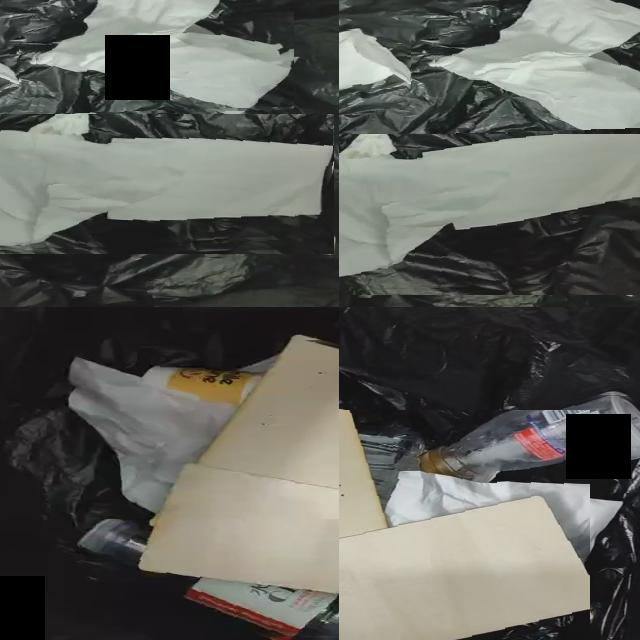bottle: (80, 519, 339, 638), (417, 395, 640, 493)
carton: (339, 410, 590, 640), (138, 339, 339, 607)
dixie_cup: (143, 366, 260, 406)
paper: (0, 114, 333, 248), (339, 134, 640, 279), (434, 0, 640, 144), (35, 0, 294, 112), (70, 358, 235, 512), (380, 480, 620, 574), (339, 30, 411, 89)
